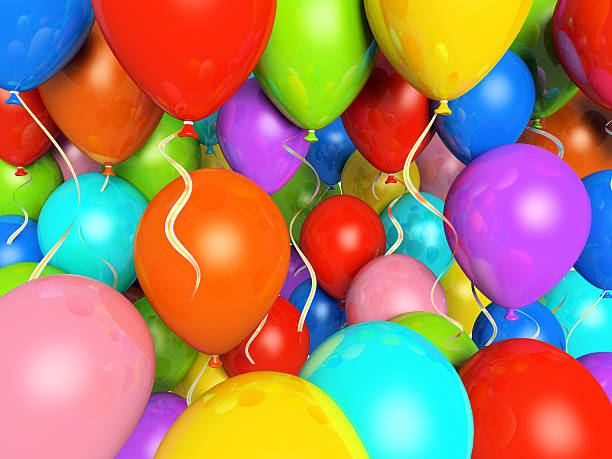Balloon: (135, 168, 293, 354), (1, 276, 156, 459), (443, 144, 591, 313), (91, 1, 277, 122), (154, 372, 371, 459), (457, 338, 612, 459), (364, 1, 535, 105), (260, 1, 377, 130), (37, 172, 141, 287), (299, 196, 383, 297)
